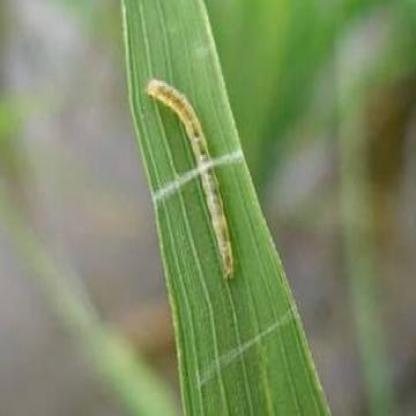leaf-folder: (133, 54, 245, 298)
